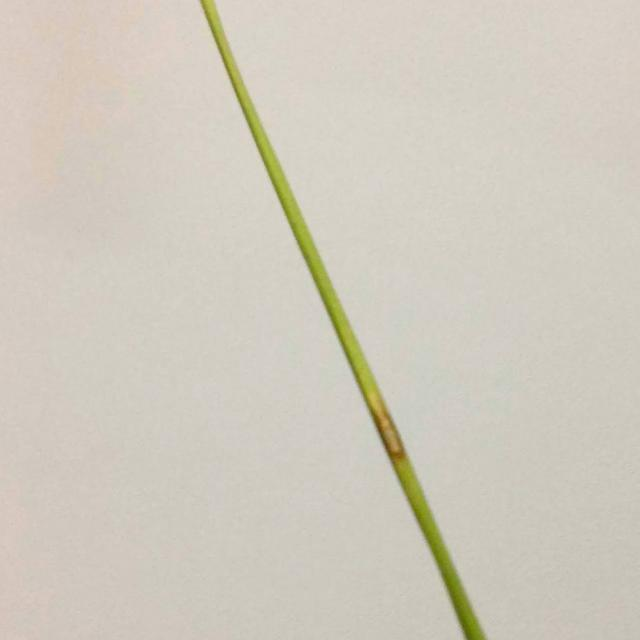Blast: (378, 416, 404, 456)
